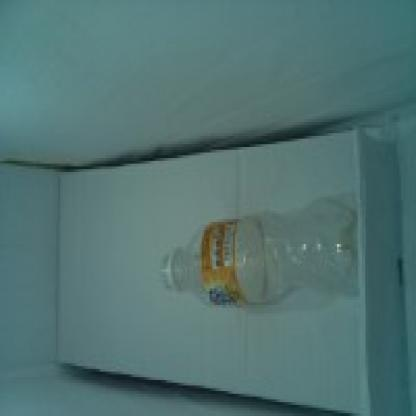bottle: (155, 196, 365, 311)
